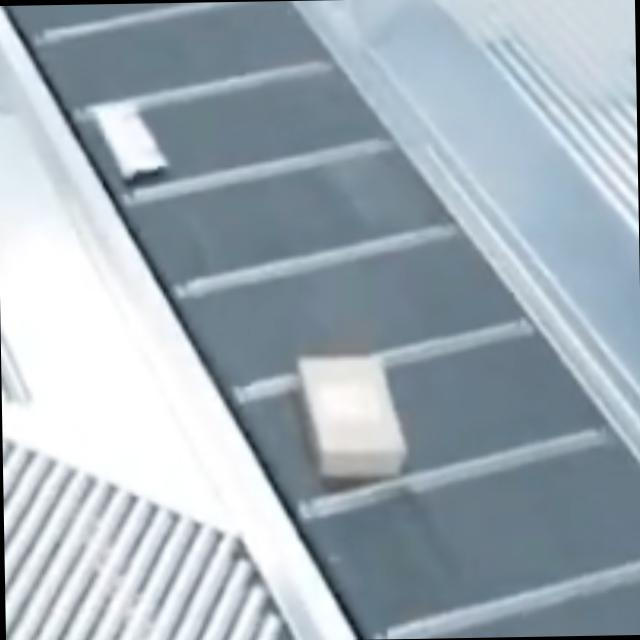box: (296, 351, 404, 484)
mailer: (97, 102, 171, 182)
